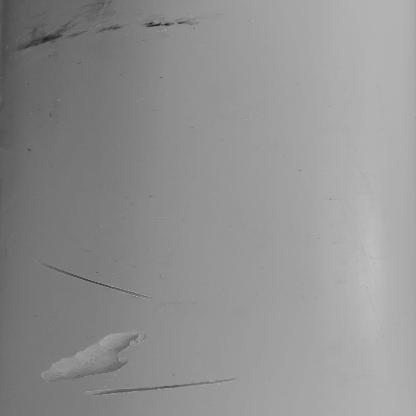sunshang: (37, 330, 149, 380), (44, 263, 151, 301), (82, 376, 241, 400)
